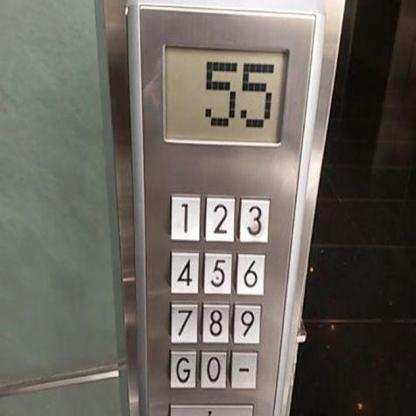-: (229, 347, 259, 391)
0: (198, 348, 228, 392)
1: (167, 192, 202, 243)
2: (202, 193, 237, 244)
3: (235, 195, 271, 245)
4: (167, 249, 200, 296)
5: (201, 250, 233, 296)
6: (233, 249, 264, 296)
7: (167, 299, 199, 346)
8: (198, 299, 230, 346)
9: (230, 300, 262, 347)
G: (167, 348, 197, 392)
led: (160, 38, 292, 151)
